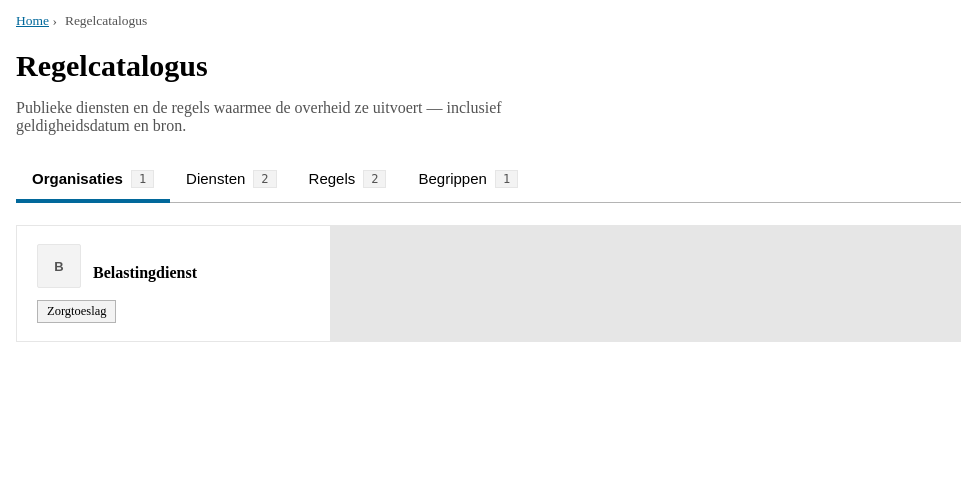
Test: Regelcatalogus › Rules tab: the filter opens every matching service and hides the rest
Click the tab "Regels 2": (347, 181) 292,159 -> 402,203
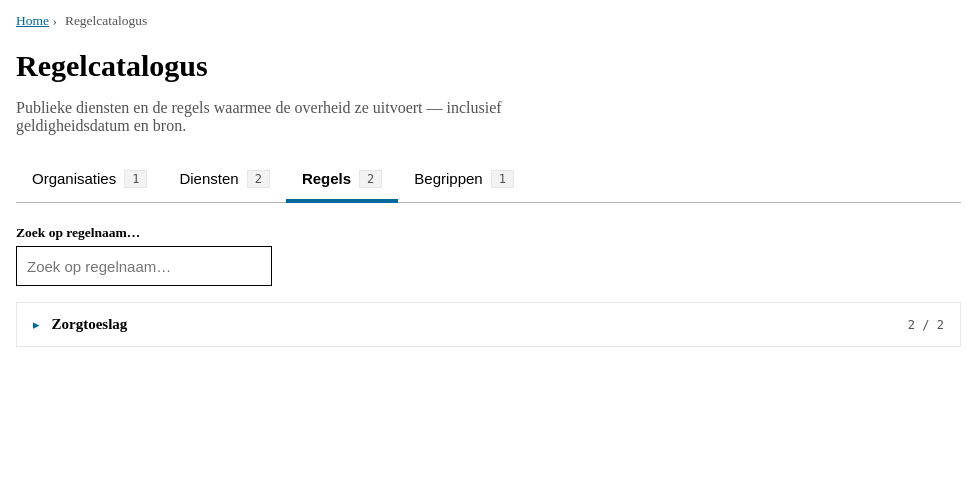
In the search field labelled "Zoek op regelnaam…": (144, 266) 16,246 -> 272,286, type "leeftijd"
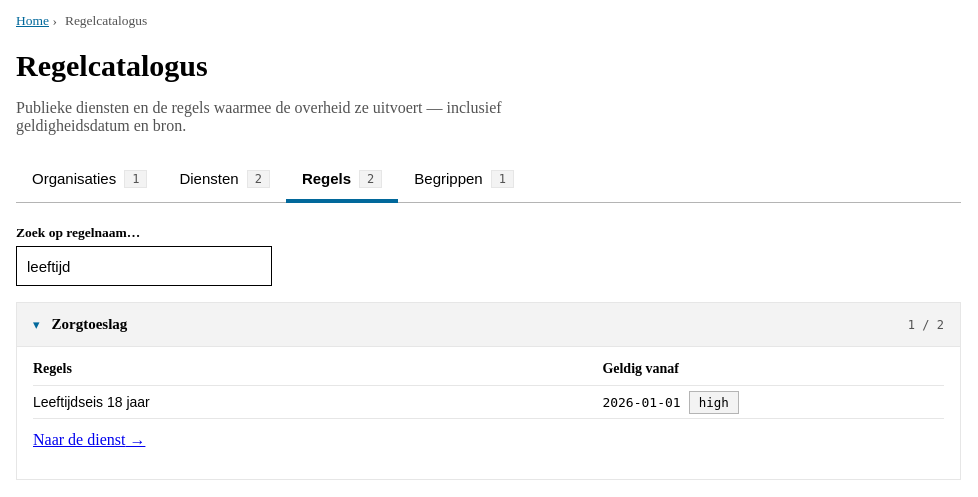
Now the column heading "Leeftijdseis 18 jaar" is shown, box 33,386 -> 602,419
